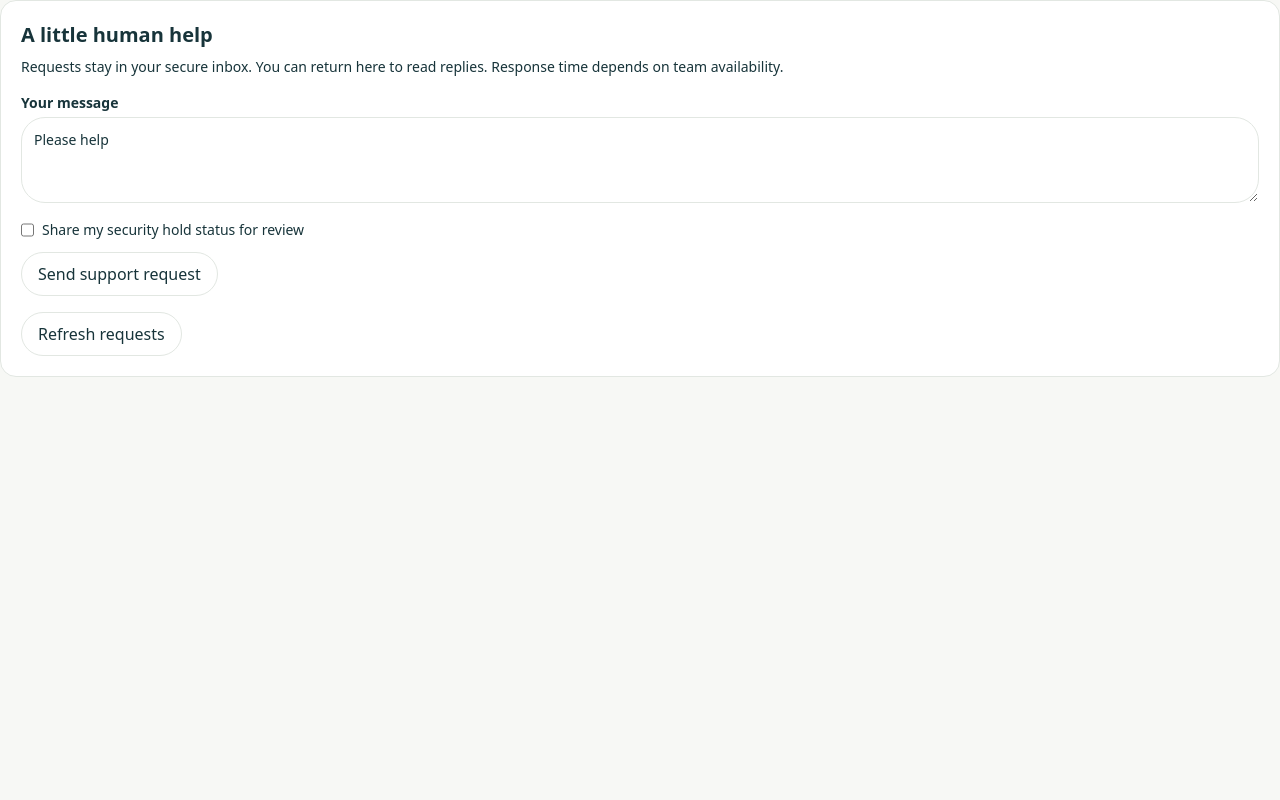
Test: creates a durable customer request and shows the returned queue status
Click the button "Send support request". click: coordinates (119, 274)
box: [21,252,218,296]
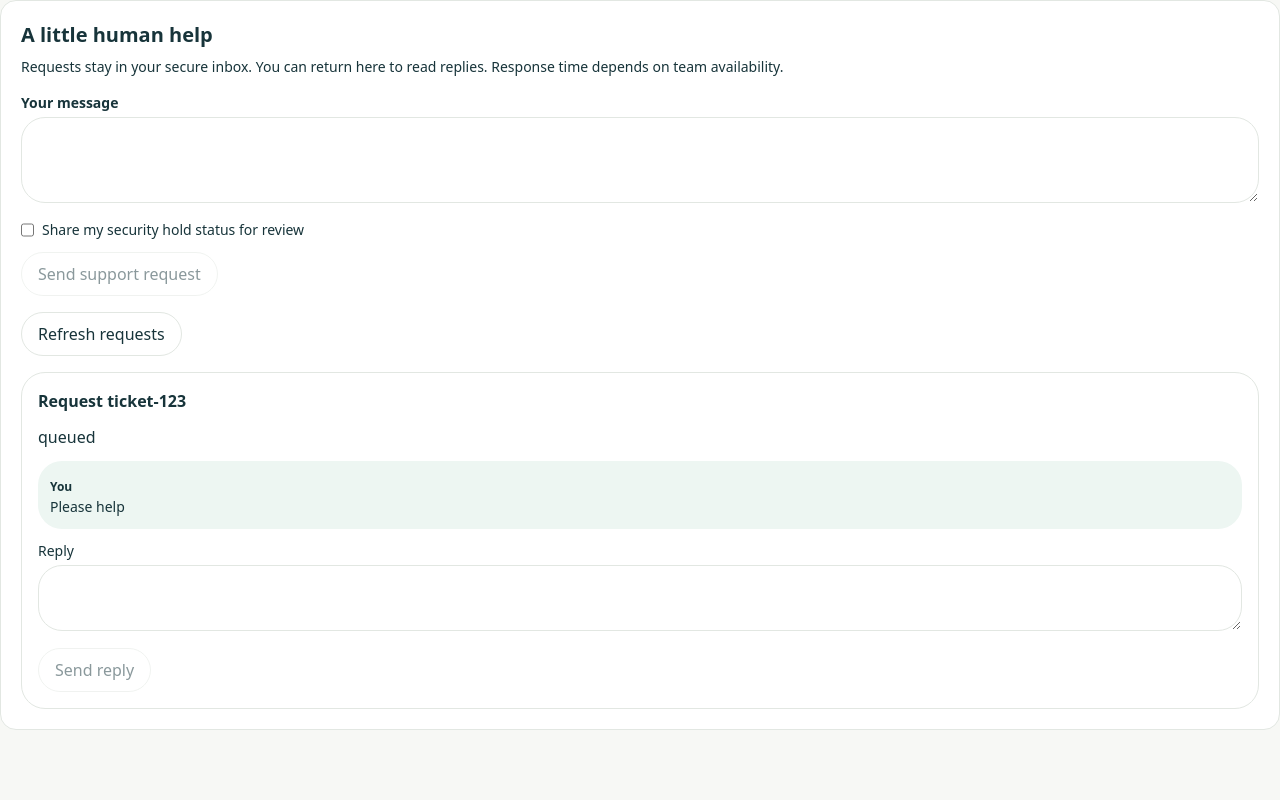
expect the heading "Request ticket-123" is shown: met, box [38,390,186,412]
expect the text "queued" is shown: met, box [38,426,96,448]
